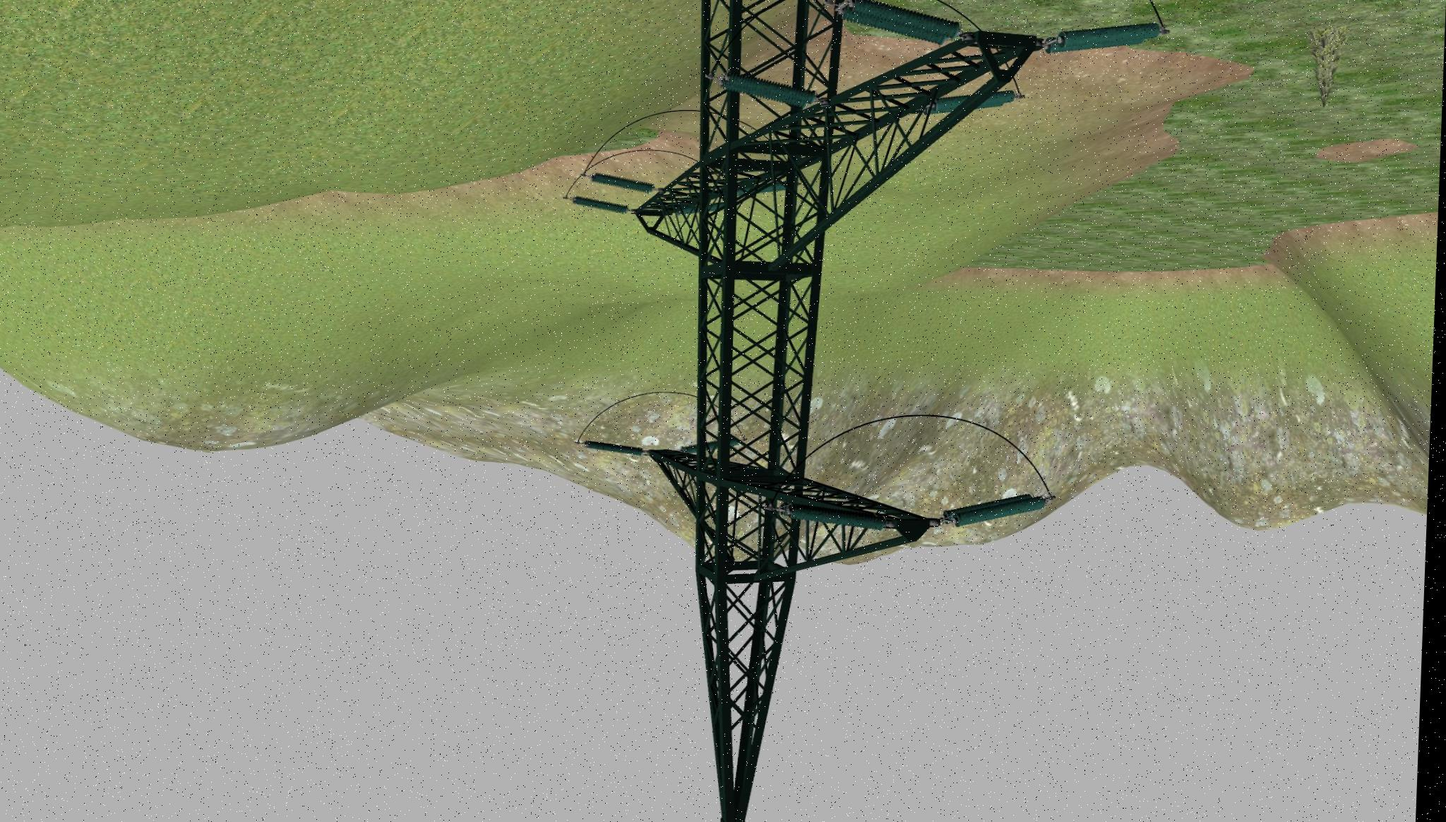tower: (611, 0, 1032, 818)
